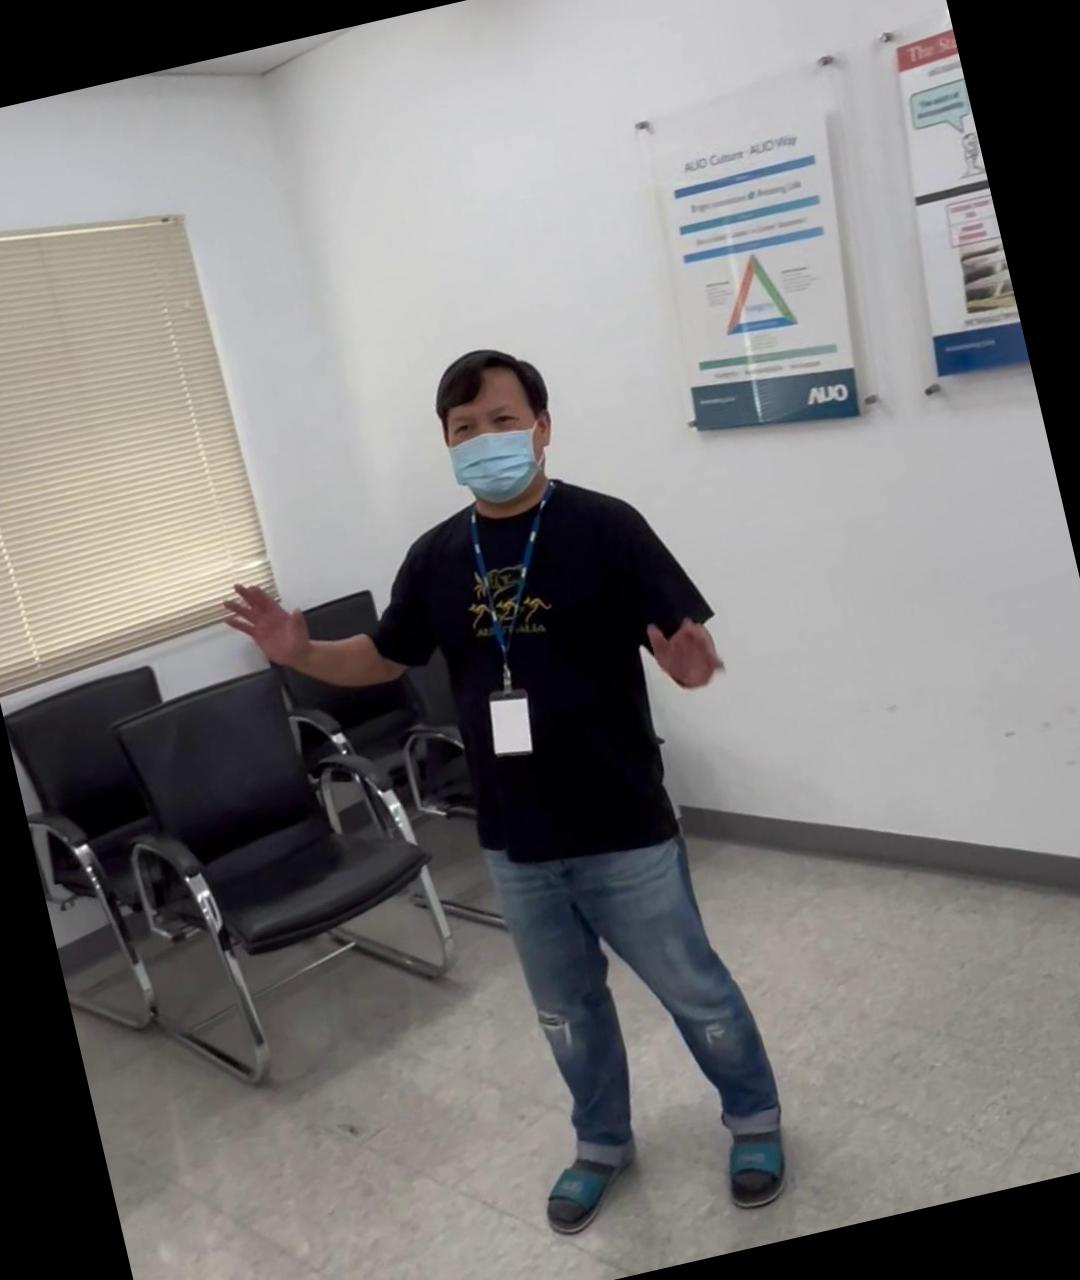No-gloves: (210, 558, 336, 697), (632, 594, 730, 706)
